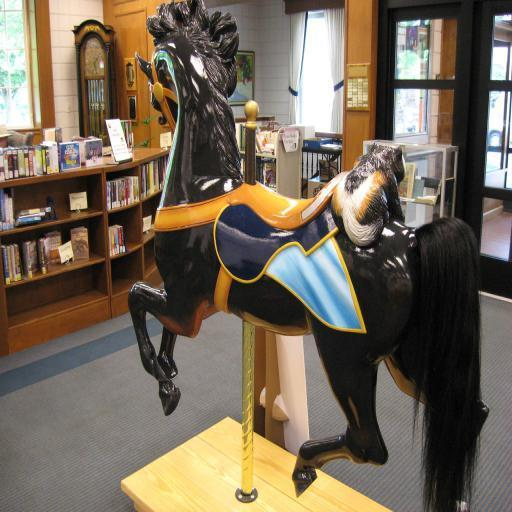horse: (126, 0, 480, 512)
